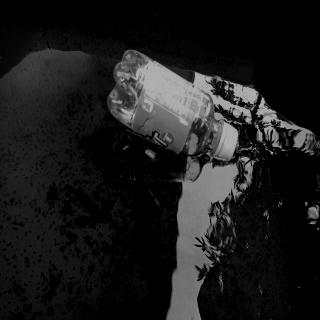bottle: (106, 48, 238, 163)
